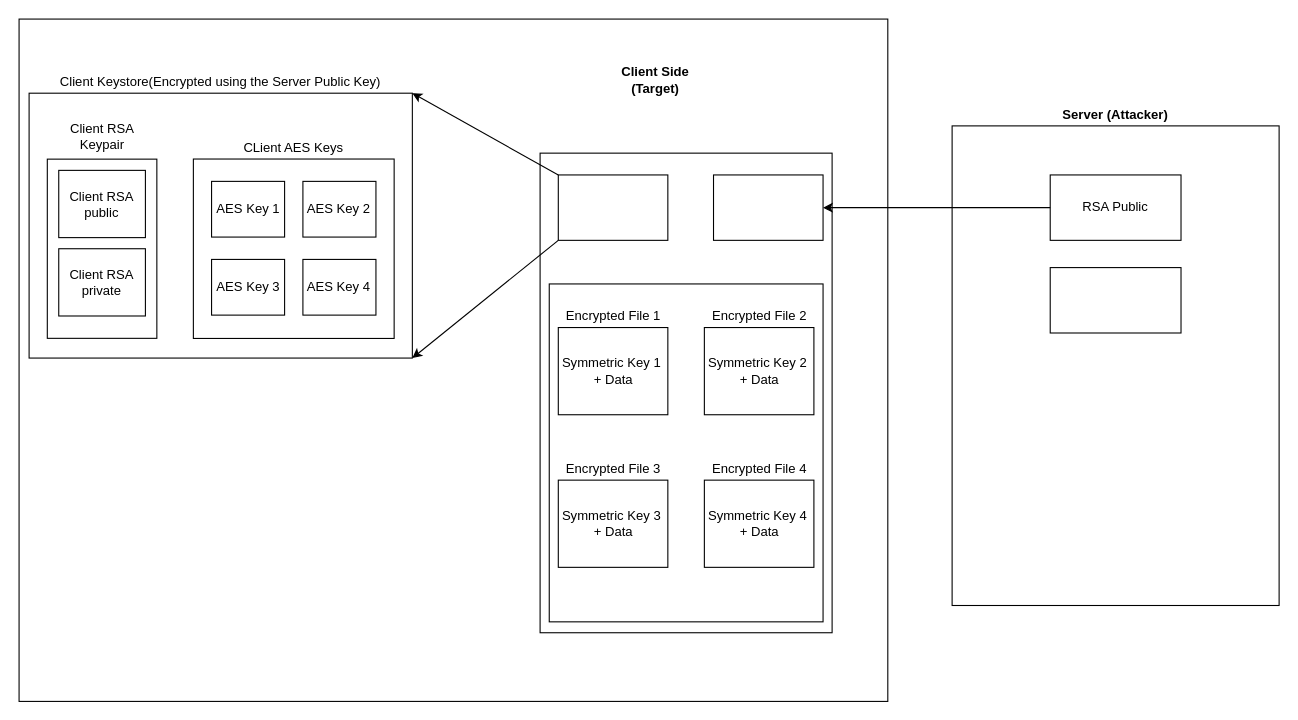
This 1298x720 diagram has some shape labels left out. Each missing label, with the centre of its shape:
Client Decryption Keys: pixel 612 207
RSA Private: pixel 1115 300
Server RSA Public: pixel 767 207
